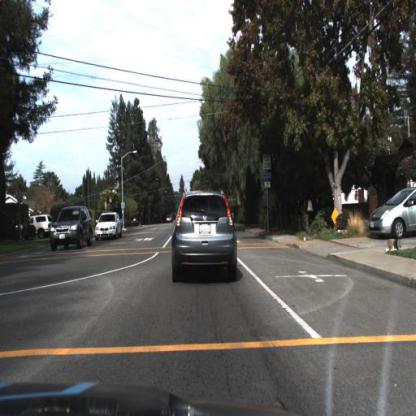car: (159, 175, 248, 296), (363, 187, 416, 241), (47, 204, 95, 260), (371, 184, 416, 241), (92, 209, 124, 242), (27, 212, 56, 239), (166, 212, 174, 227)
